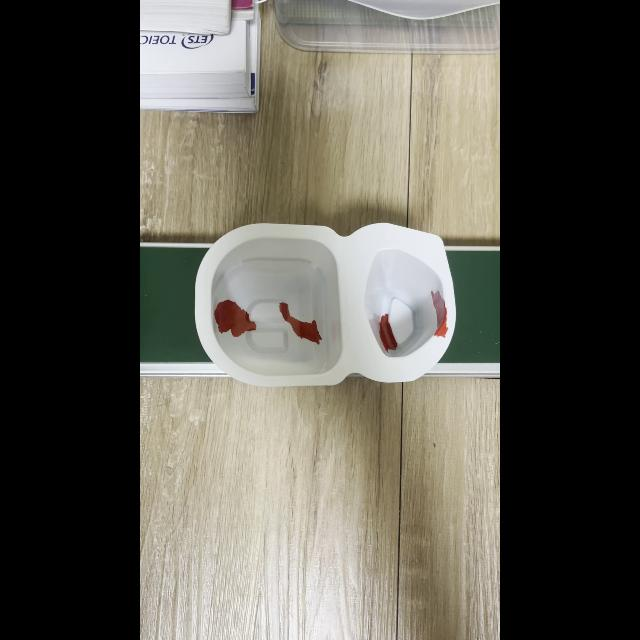dirty: (196, 223, 454, 385)
